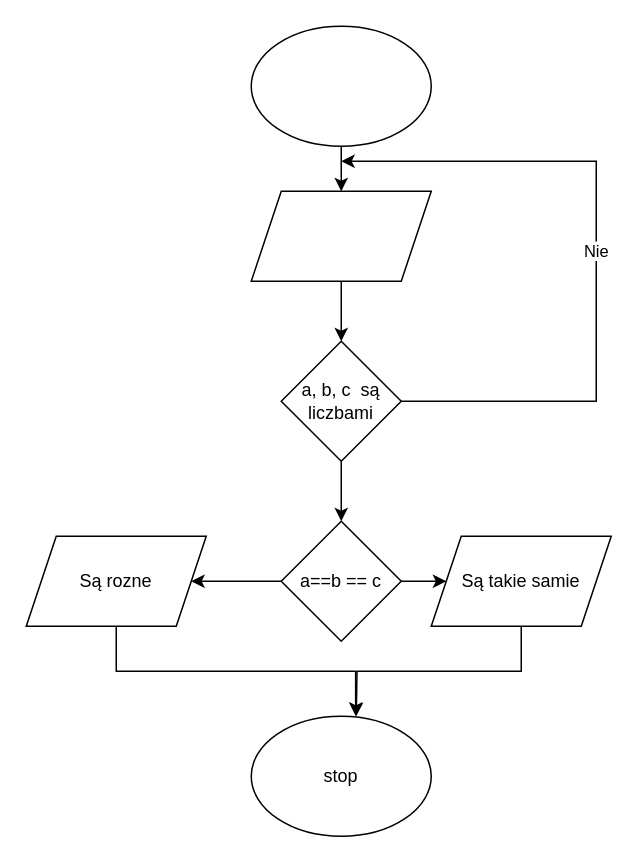
Image size: 638x863. Some labels were removed from this diagram. Here are the shapes that lost their labels. From the top down, the centre of each, then its label:
the point at 340,85: start
the point at 340,235: Podaj a, b, c
